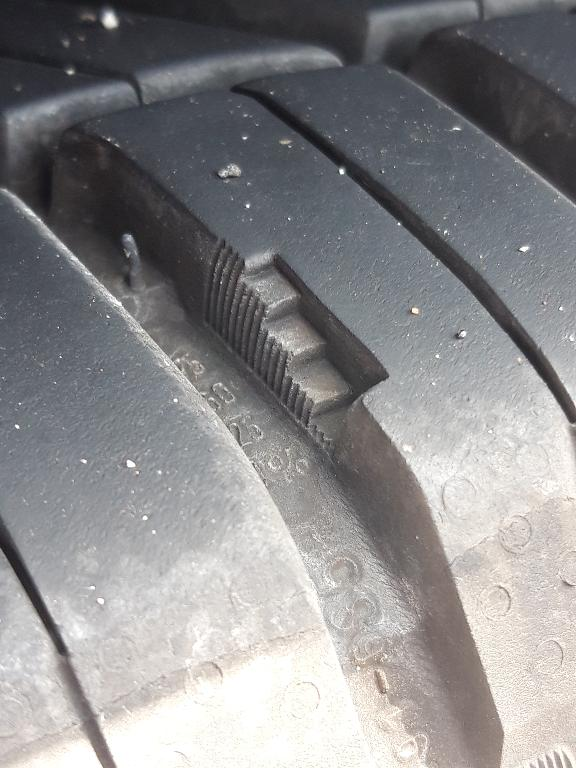temoin:90: (193, 224, 407, 471)
